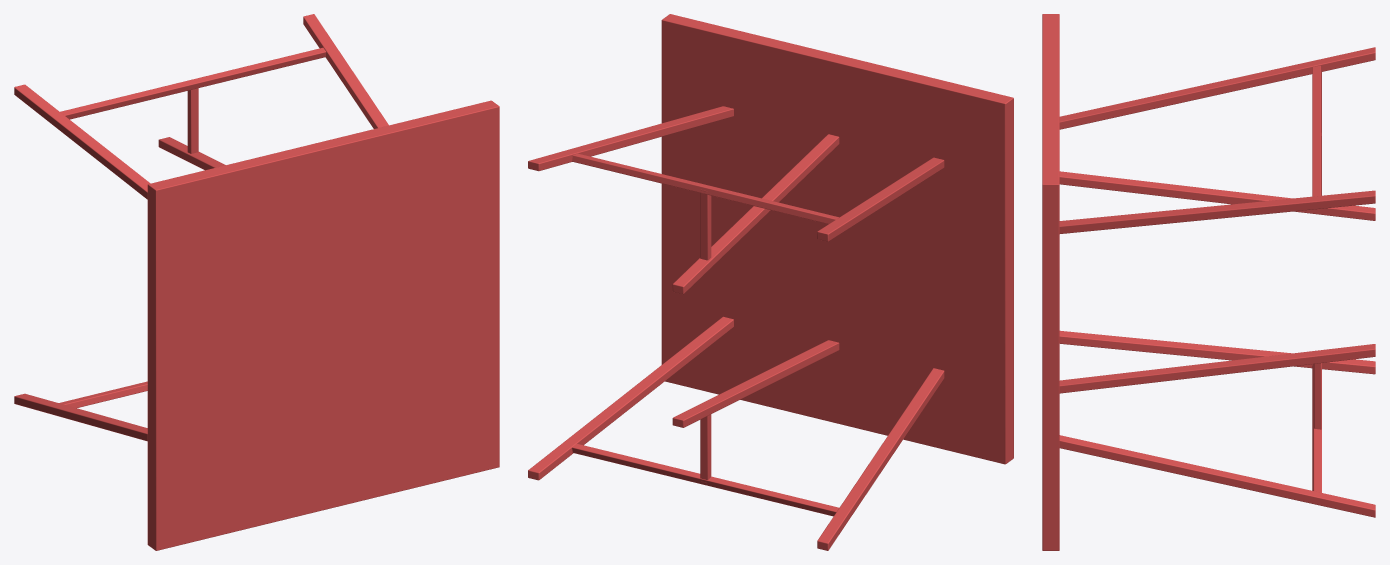
File: square_table.obj
3 views of the same model, side by side, from view 1: azimuth 30°, elevation 25°; view 2: azimuth 150°, elevation 25°; view 3: azimuth 270°, elevation 25° (orthographic).
Visible parts, largest first — view 1: diining_furnitures_29__vray; view 2: diining_furnitures_29__vray; view 3: diining_furnitures_29__vray.
Boxes of the visible parts, left/top/right/bottom form: diining_furnitures_29__vray: left=14, top=14, right=499, bottom=550; diining_furnitures_29__vray: left=528, top=14, right=1013, bottom=550; diining_furnitures_29__vray: left=1042, top=14, right=1375, bottom=550.
Bounding box in the file's own units: 8.93 × 8.95 × 7.37.
